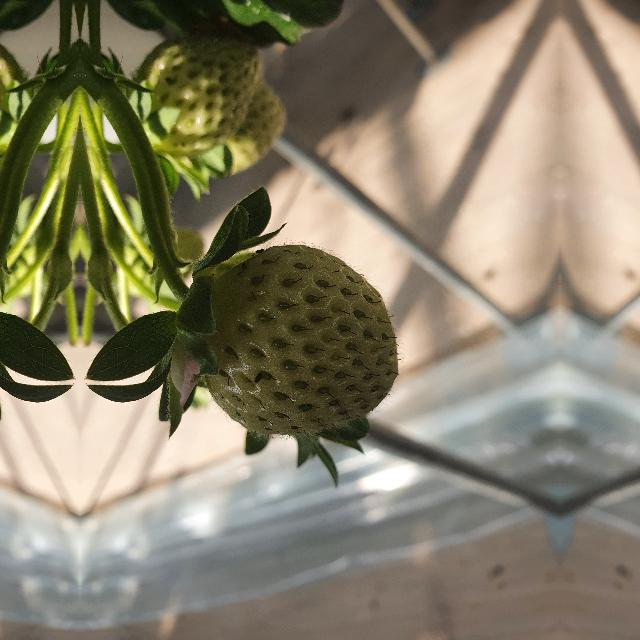Health_25: (204, 244, 398, 434), (122, 34, 268, 152), (0, 33, 38, 152)
